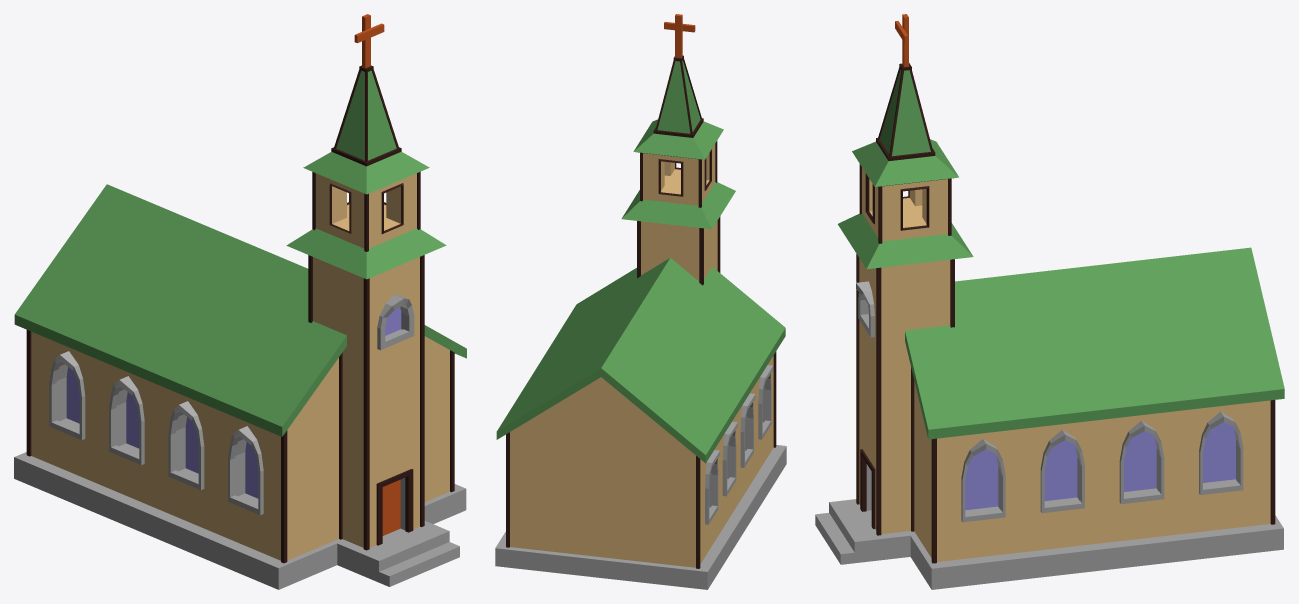
The model's file is church.gltf.
3 views of the same model, side by side, from view 1: azimuth 30°, elevation 25°; view 2: azimuth 150°, elevation 25°; view 3: azimuth 270°, elevation 25° (orthographic). The views are drawn at different scales.
Visible parts, largest first — view 1: Cube.014, Cube.004, Cube.005, Cube.030, Cube.007, Cube.031, Cube.006, Cube.009, Cube.008, Cube.023, Cube.033, Cube.035 (+8 smaller); view 2: Cube.004, Cube.014, Cube.030, Cube.005, Cube.007, Cube.006, Cube.008, Cube.009, Cube.034, Cube.033, Cube.032, Cube.035 (+2 smaller); view 3: Cube.014, Cube.004, Cube.005, Cube.030, Cube.007, Cube.031, Cube.006, Cube.008, Cube.009, Cube.020, Cube.038, Cube.036 (+7 smaller).
Part boxes in pixels (x1,y1,x2,y2): Cube.014: (14, 184, 466, 436); Cube.004: (31, 331, 449, 560); Cube.005: (313, 257, 419, 547); Cube.030: (14, 452, 466, 589); Cube.007: (316, 173, 416, 248); Cube.031: (337, 521, 459, 586); Cube.006: (286, 228, 446, 279); Cube.009: (336, 70, 396, 160); Cube.008: (303, 151, 429, 194); Cube.023: (363, 278, 369, 550); Cube.033: (168, 401, 204, 489); Cube.035: (49, 351, 85, 439); Cube.004: (510, 356, 773, 567); Cube.014: (496, 258, 785, 463); Cube.030: (495, 445, 786, 589); Cube.005: (641, 221, 717, 281); Cube.007: (643, 144, 715, 205); Cube.006: (621, 182, 735, 229); Cube.008: (633, 119, 723, 159); Cube.009: (657, 60, 700, 133); Cube.034: (722, 421, 737, 496); Cube.033: (740, 393, 755, 467); Cube.032: (758, 365, 773, 439); Cube.035: (705, 450, 719, 524); Cube.014: (905, 247, 1284, 439); Cube.004: (914, 381, 1270, 561); Cube.005: (859, 258, 950, 534); Cube.030: (908, 515, 1283, 589); Cube.007: (862, 167, 947, 241); Cube.031: (815, 499, 910, 564); Cube.006: (838, 213, 973, 269); Cube.008: (852, 139, 958, 186); Cube.009: (879, 69, 930, 156); Cube.020: (876, 267, 881, 535); Cube.038: (1119, 420, 1164, 504); Cube.036: (961, 439, 1005, 522).
Bounding box in the file's own units: 9.1 × 15.07 × 12.33.
